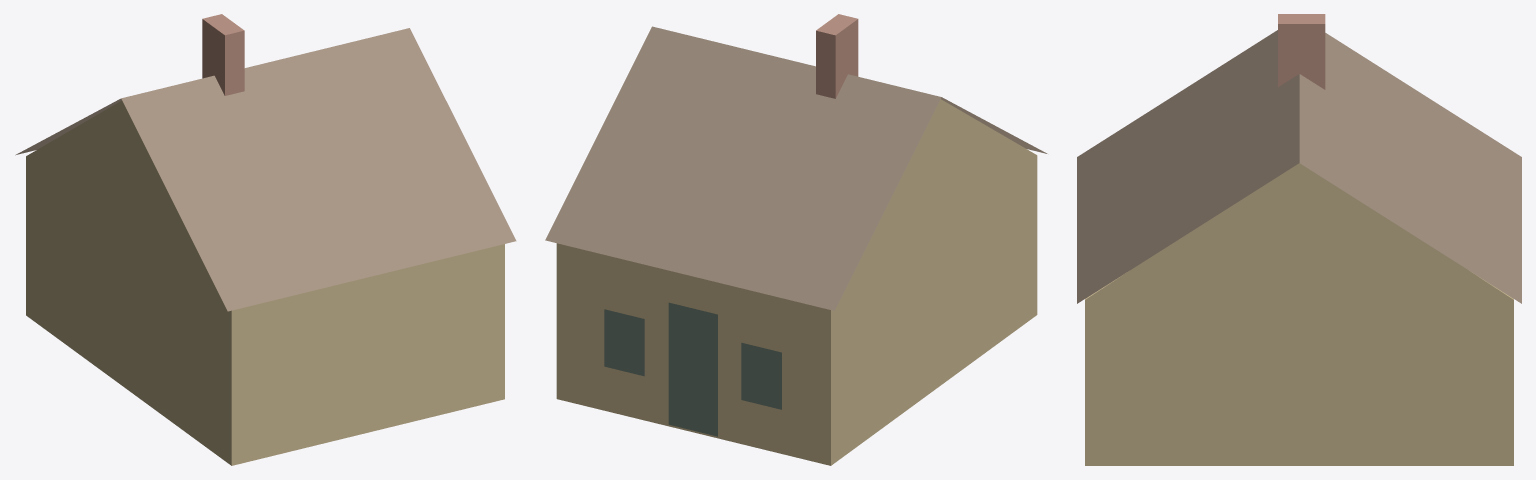
The model's file is recon_1835_south_d3_008__recommended_1835.glb.
3 views of the same model, side by side, from view 1: azimuth 30°, elevation 25°; view 2: azimuth 150°, elevation 25°; view 3: azimuth 270°, elevation 25° (orthographic). The views are drawn at different scales.
Visible parts, largest first — view 1: recon_1835_south_d3_008__recommended_1835; view 2: recon_1835_south_d3_008__recommended_1835; view 3: recon_1835_south_d3_008__recommended_1835.
Boxes of the visible parts, bbox=[...] form: recon_1835_south_d3_008__recommended_1835: bbox=[15, 14, 516, 465]; recon_1835_south_d3_008__recommended_1835: bbox=[545, 14, 1047, 465]; recon_1835_south_d3_008__recommended_1835: bbox=[1077, 14, 1521, 465].
Bounding box in the file's own units: 5.28 × 5.98 × 6.76.
